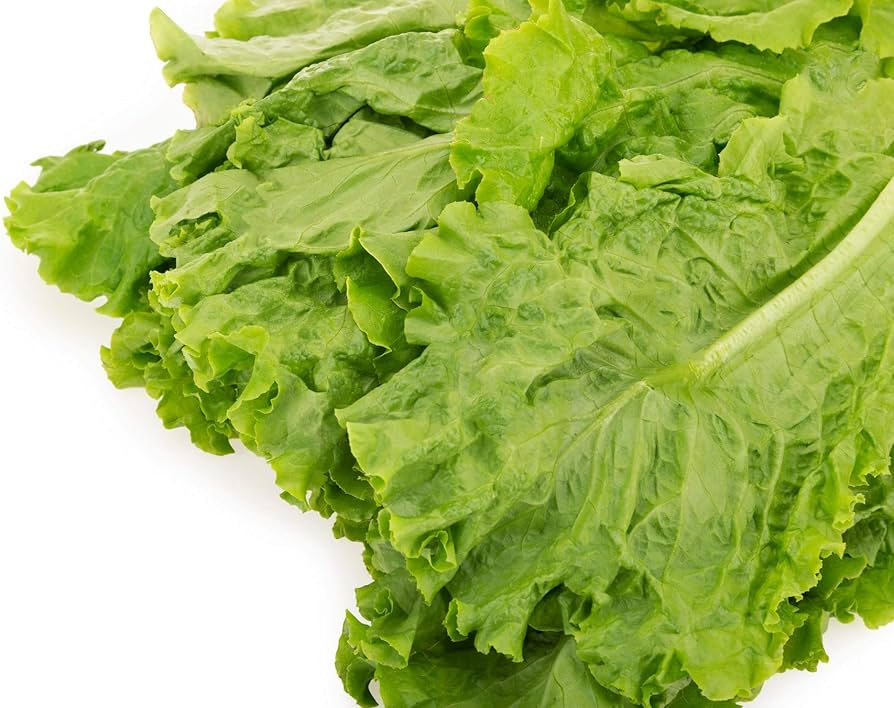lettuce: (67, 9, 868, 662)
